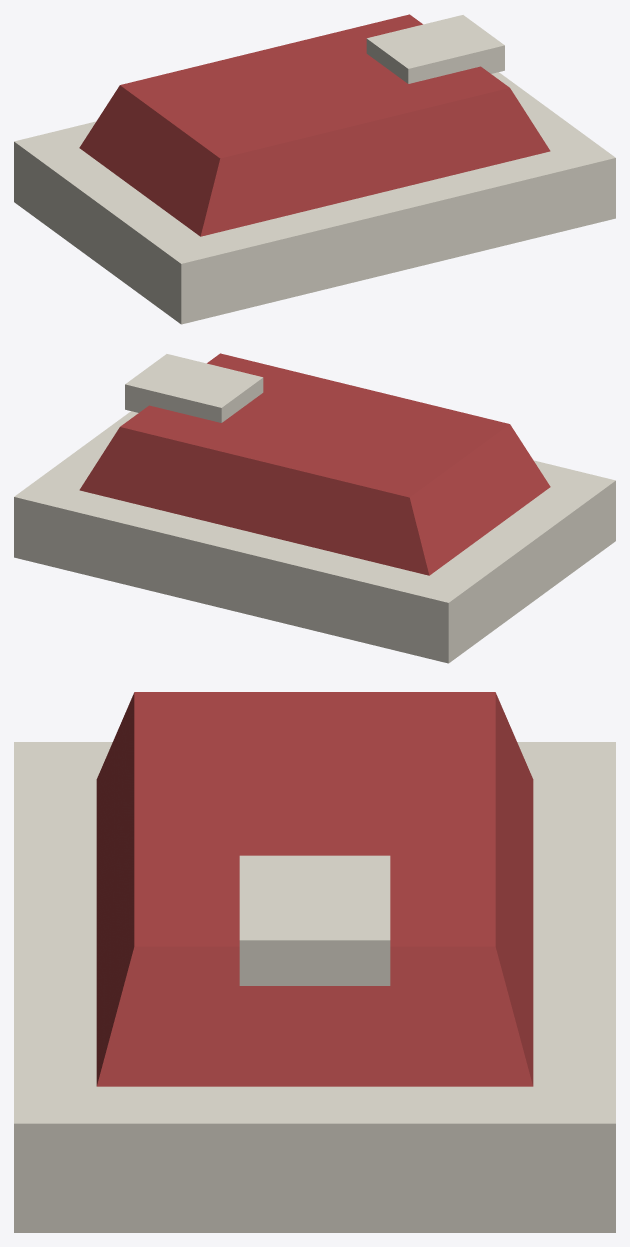
File: FD_Steak_01.glb
3 views of the same model, one above another, from view 1: azimuth 30°, elevation 25°; view 2: azimuth 150°, elevation 25°; view 3: azimuth 270°, elevation 25° (orthographic). The views are drawn at different scales.
Parts seen in each view (by area): view 1: FD_Steak_01; view 2: FD_Steak_01; view 3: FD_Steak_01.
Boxes of the visible parts, box(x1,y1,x2,y2) form: FD_Steak_01: box(14, 14, 615, 324); FD_Steak_01: box(14, 353, 615, 663); FD_Steak_01: box(14, 692, 615, 1232).
Size of the model in its own units: 0.18 by 0.055 by 0.12.
1 material, 1 textured.
